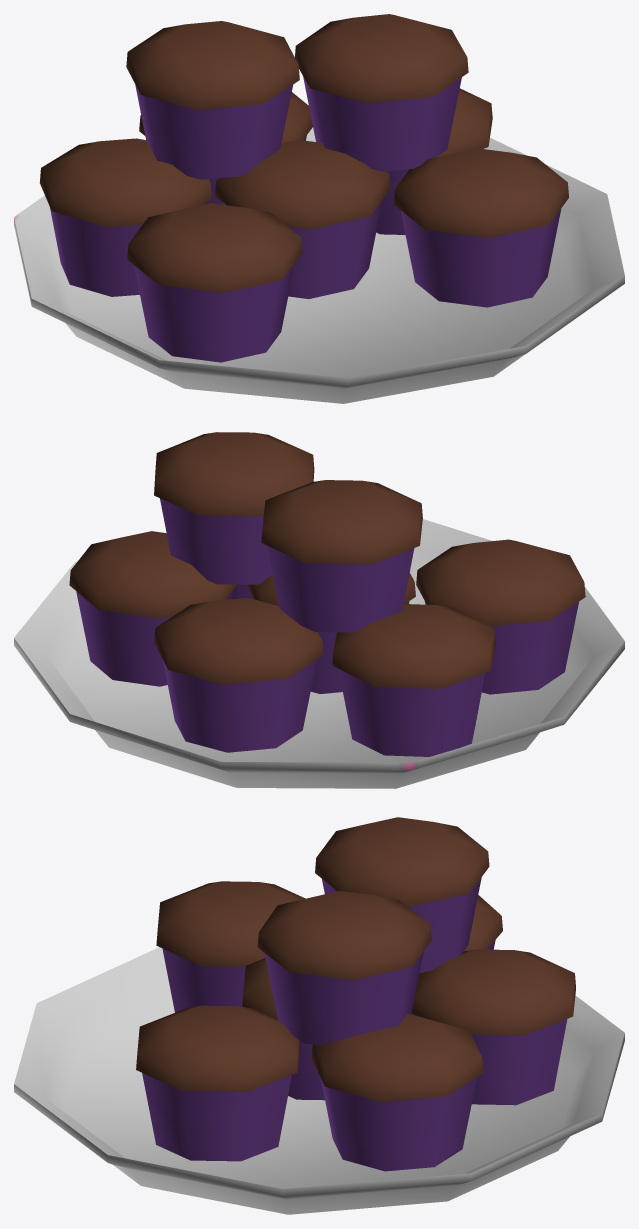
The model's file is furniture_decor_210023.glb.
3 renders of one model, top to bottom at view 1: azimuth 30°, elevation 25°; view 2: azimuth 150°, elevation 25°; view 3: azimuth 270°, elevation 25°, orthographic. The views are drawn at different scales.
Parts seen in each view (by area): view 1: furniture_decor_210023; view 2: furniture_decor_210023; view 3: furniture_decor_210023.
Boxes of the visible parts, left/top/right/bottom form: furniture_decor_210023: left=14, top=14, right=624, bottom=403; furniture_decor_210023: left=14, top=432, right=624, bottom=788; furniture_decor_210023: left=14, top=817, right=624, bottom=1214.
Bounding box in the file's own units: 0.2812 × 0.118 × 0.2777.
1 material, 1 textured.
